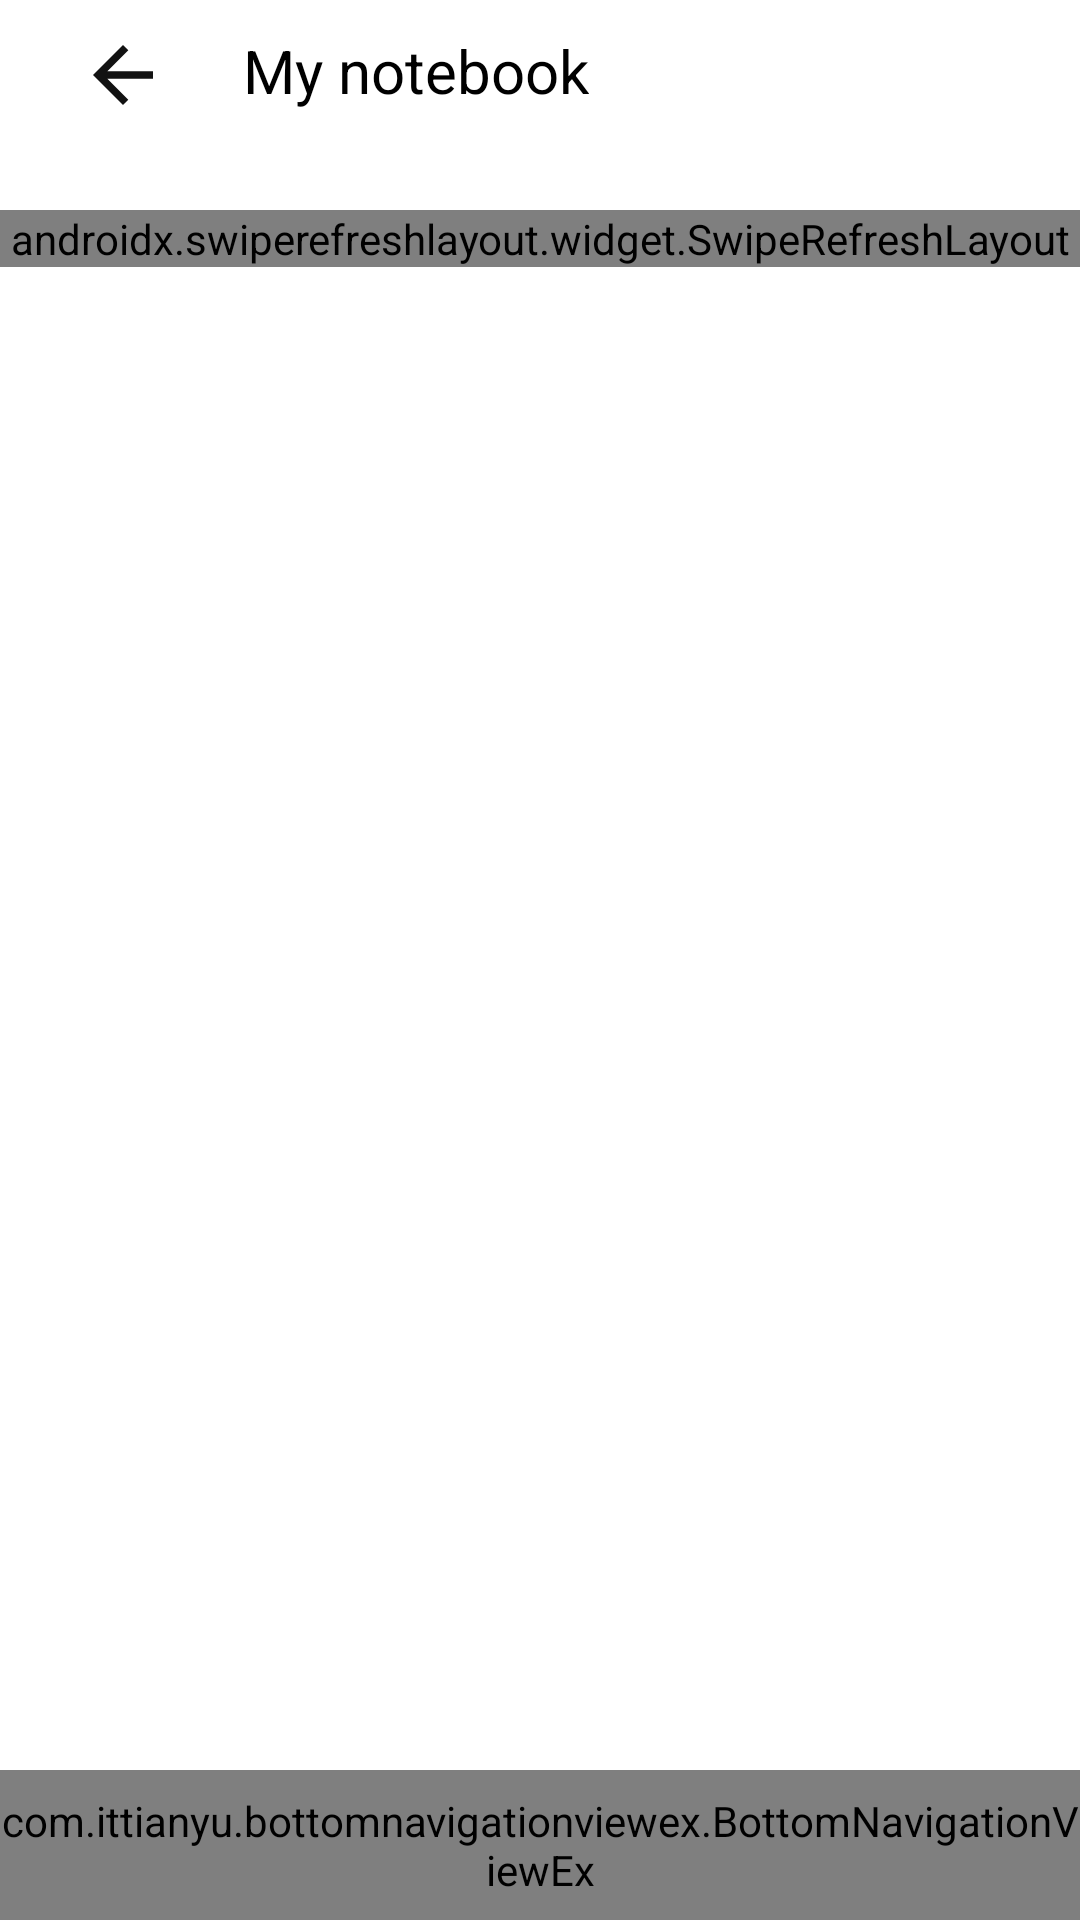

Named icons in this screenshot (1080 × 1920) and their bounding boxes, (x1, y1, x2, y2):
back: (93, 45, 153, 105)
